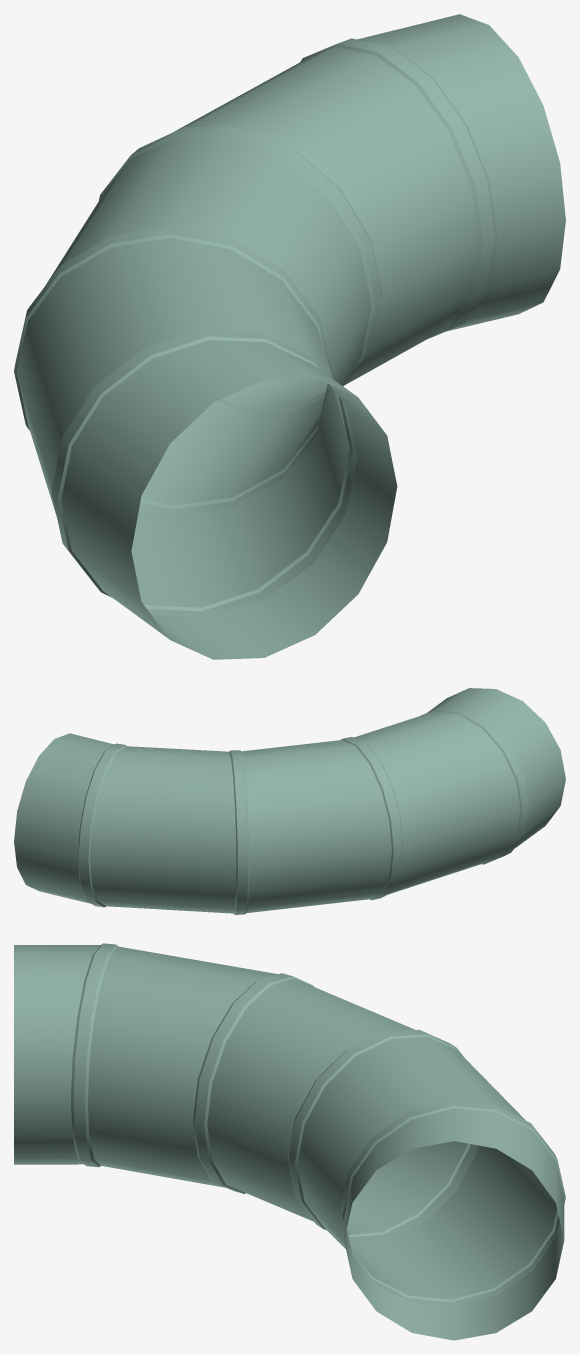
File: PipeLarge_Stepped_Bent_02.fbx
3 renders of one model, top to bottom at view 1: azimuth 30°, elevation 25°; view 2: azimuth 150°, elevation 25°; view 3: azimuth 270°, elevation 25°, orthographic. The views are drawn at different scales.
Parts seen in each view (by area): view 1: PipeLarge_Stepped_Bent_02.001; view 2: PipeLarge_Stepped_Bent_02.001; view 3: PipeLarge_Stepped_Bent_02.001.
Part boxes in pixels (x1,y1,x2,y2): PipeLarge_Stepped_Bent_02.001: (14,14,565,659); PipeLarge_Stepped_Bent_02.001: (14,688,565,914); PipeLarge_Stepped_Bent_02.001: (14,943,565,1340).
Bounding box in the file's own units: 0.5016 × 0.2032 × 0.5016.
